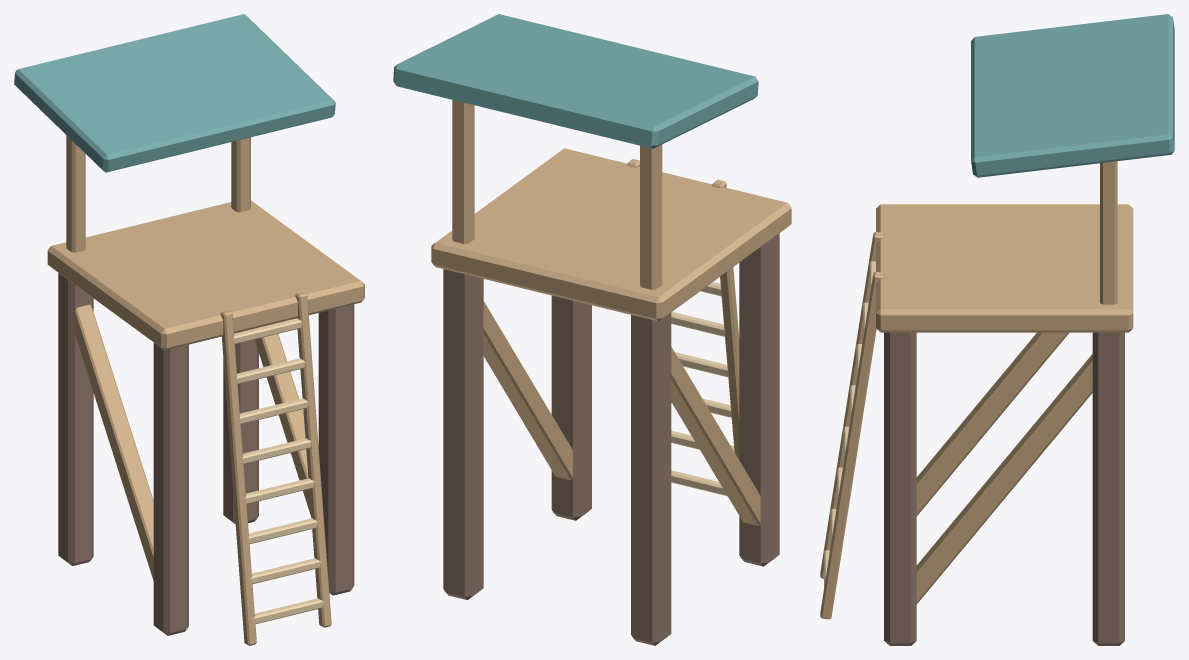
File: watchtower.fbx
The picture shows the model from 3 angles, left to right: view 1: azimuth 30°, elevation 25°; view 2: azimuth 150°, elevation 25°; view 3: azimuth 270°, elevation 25°; orthographic projection. The views are drawn at different scales.
Parts seen in each view (by area): view 1: watchtower_mesh; view 2: watchtower_mesh; view 3: watchtower_mesh.
Part boxes in pixels (box(x1,y1,x2,y2)): watchtower_mesh: box(14, 14, 364, 645); watchtower_mesh: box(393, 14, 791, 645); watchtower_mesh: box(820, 14, 1174, 645).
Bounding box in the file's own units: 1.8 × 3.55 × 2.18.
